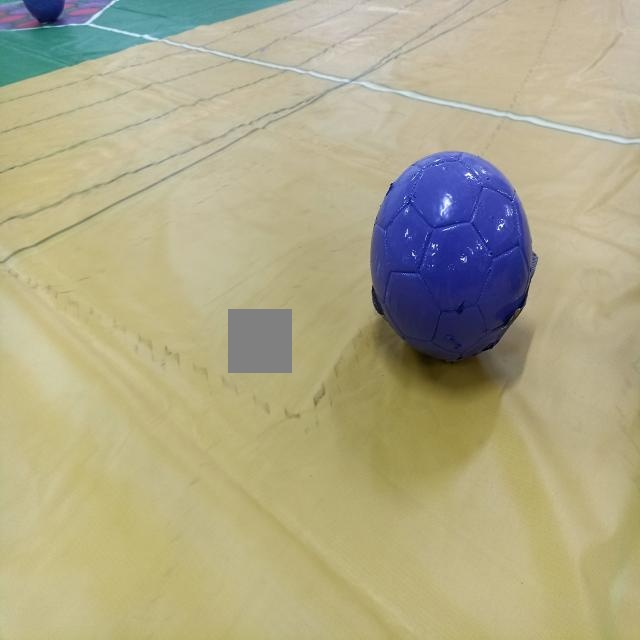purple_ball: (364, 144, 538, 375)
